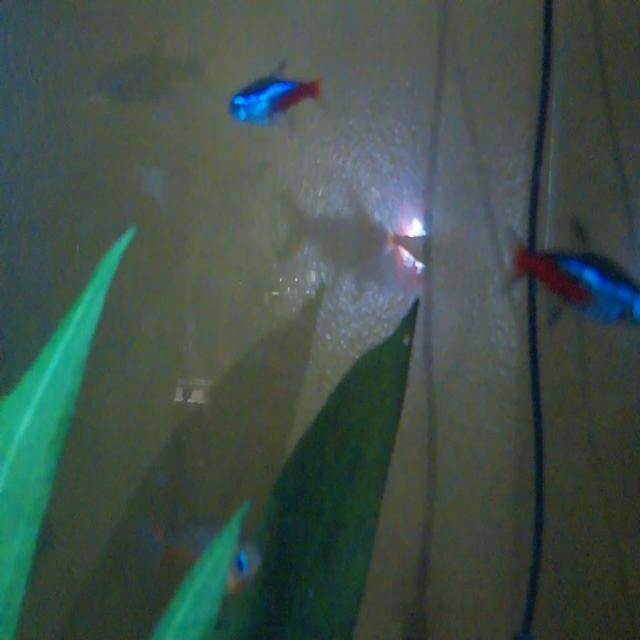fish: (501, 220, 640, 340), (220, 55, 328, 133)
